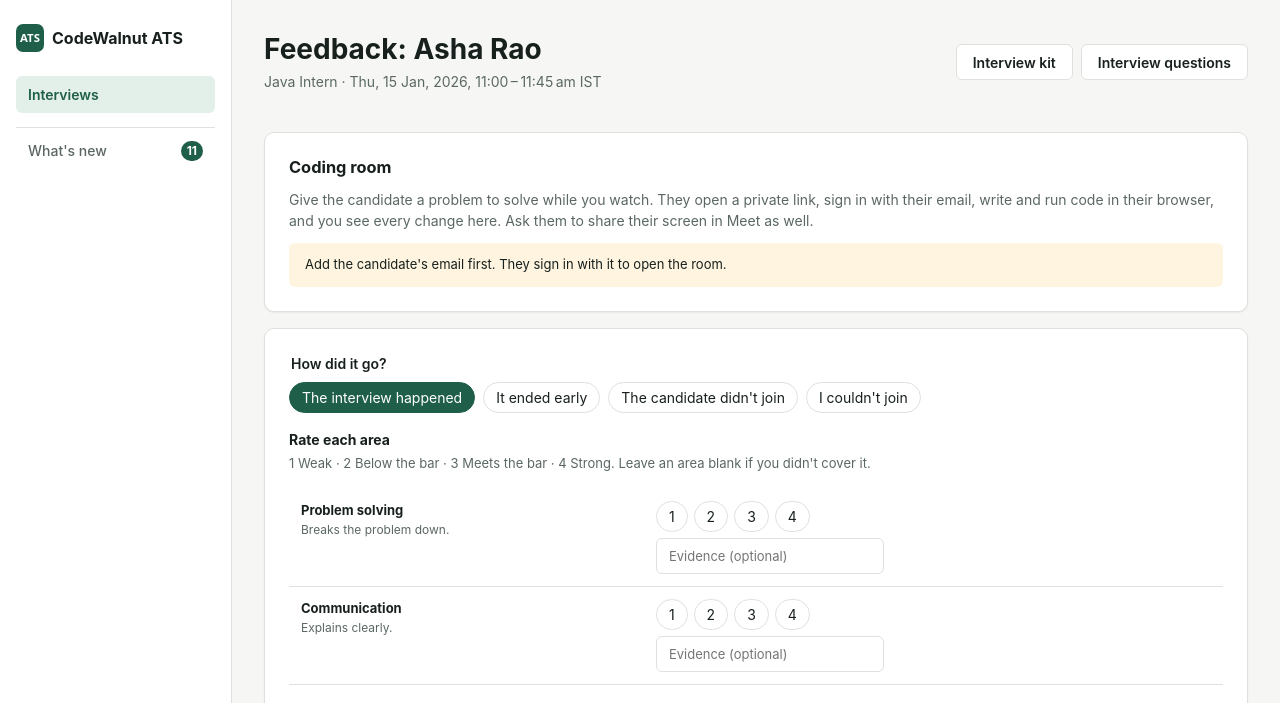
InterviewFeedbackPage (INT-24…INT-26) › a no-show needs only a note
Click the button "The candidate didn't join" at (703, 398), box [608,382,798,413]
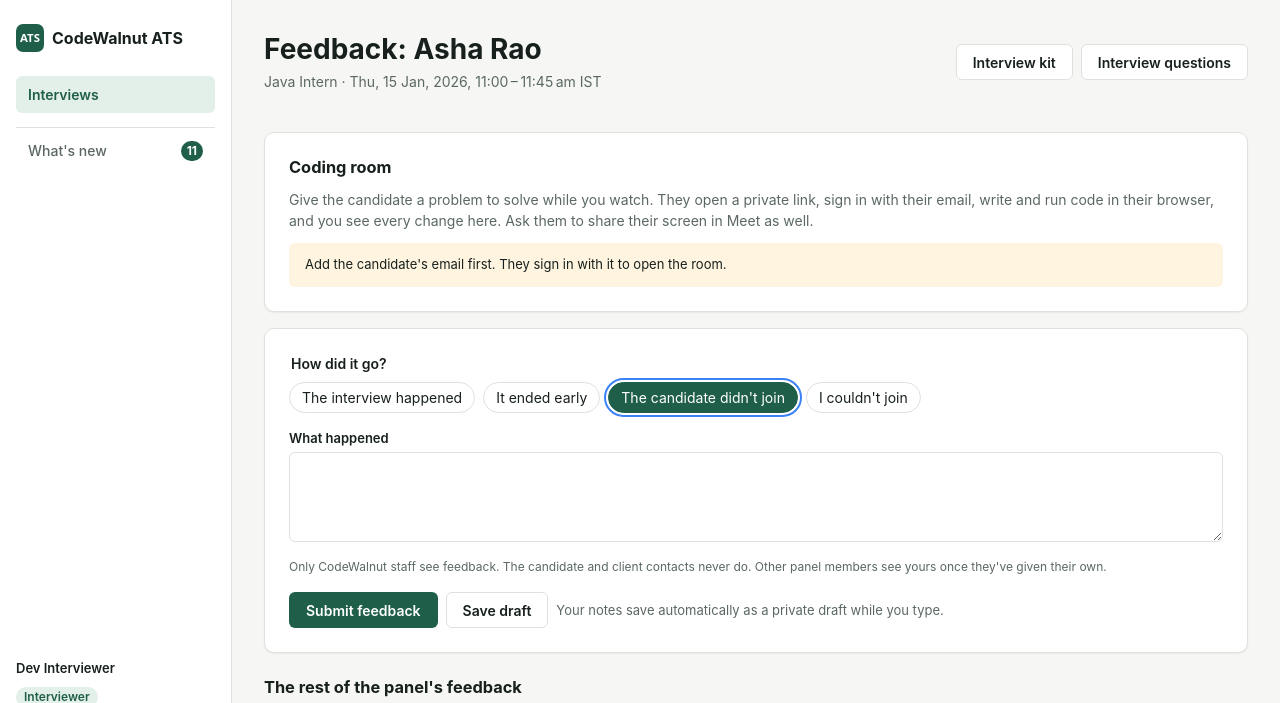
Expected: the text "Problem solving" is gone
Type "Waited 15 minutes" into the text box labelled "What happened" at (756, 498), box [289,452,1223,542]
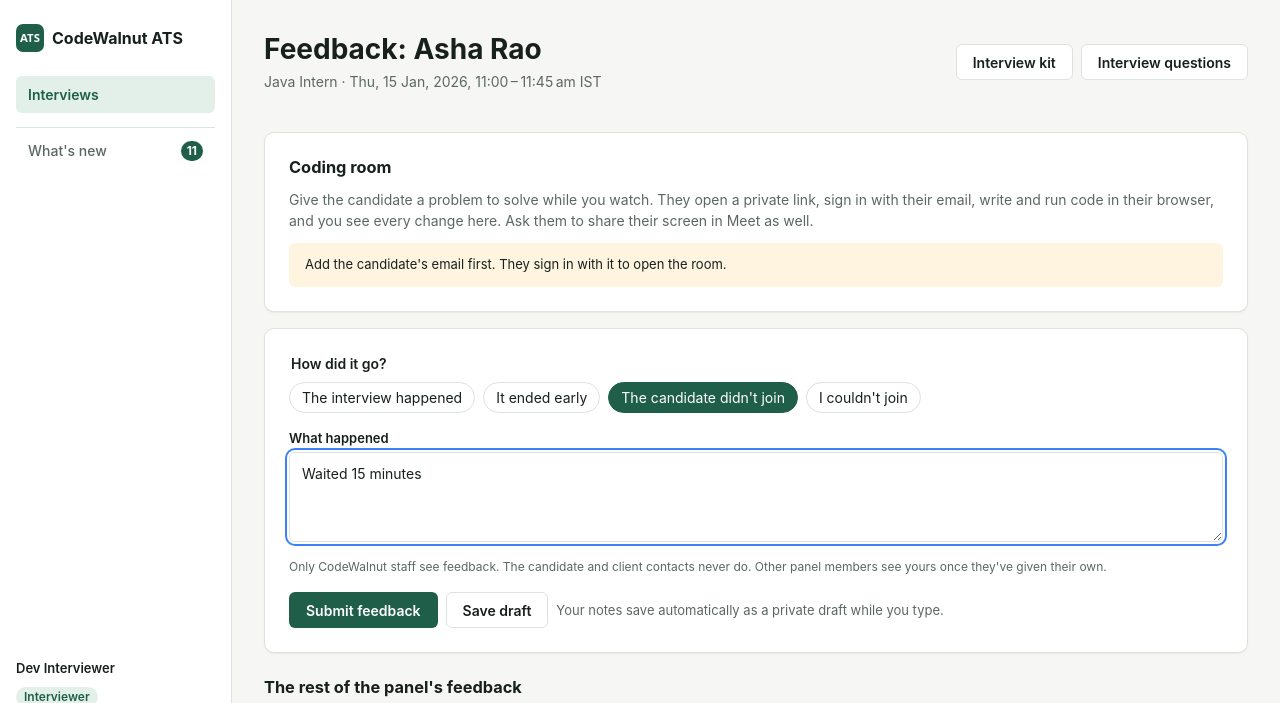
Click the button "Submit feedback" at (363, 610), box [289,592,438,628]
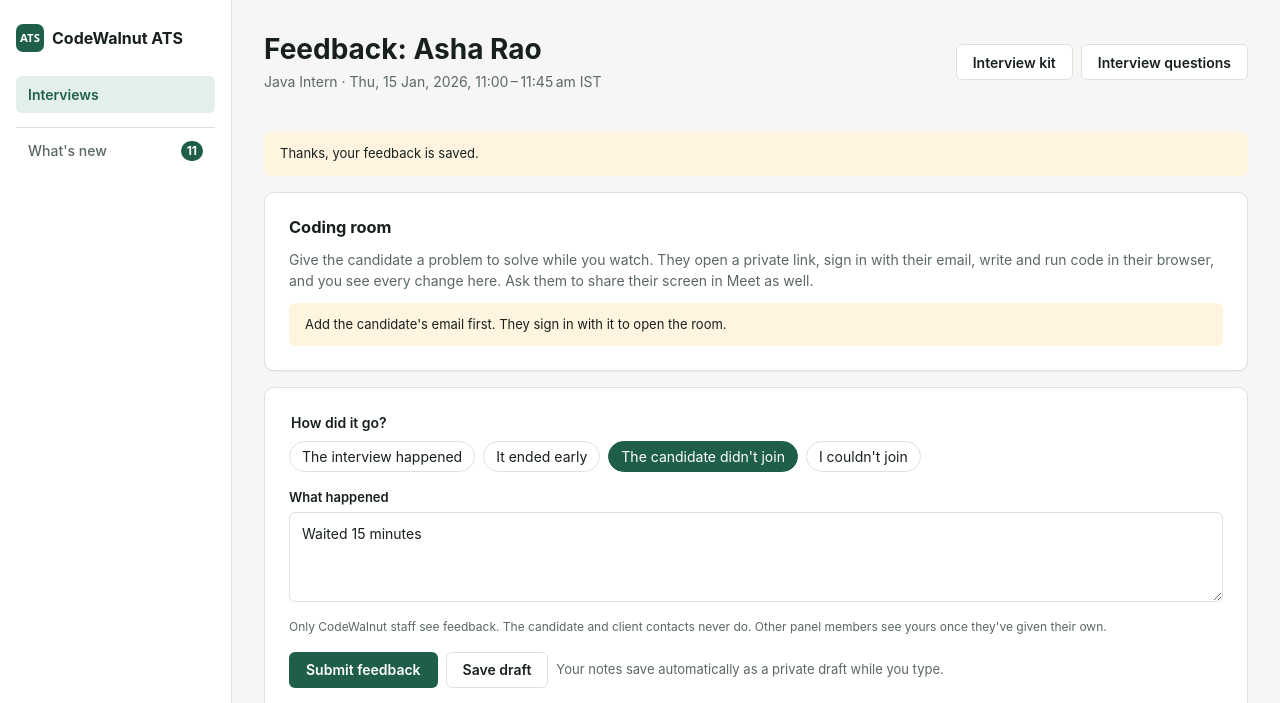
Expected: the text "Thanks, your feedback is saved." is shown, [264,132,1248,176]
